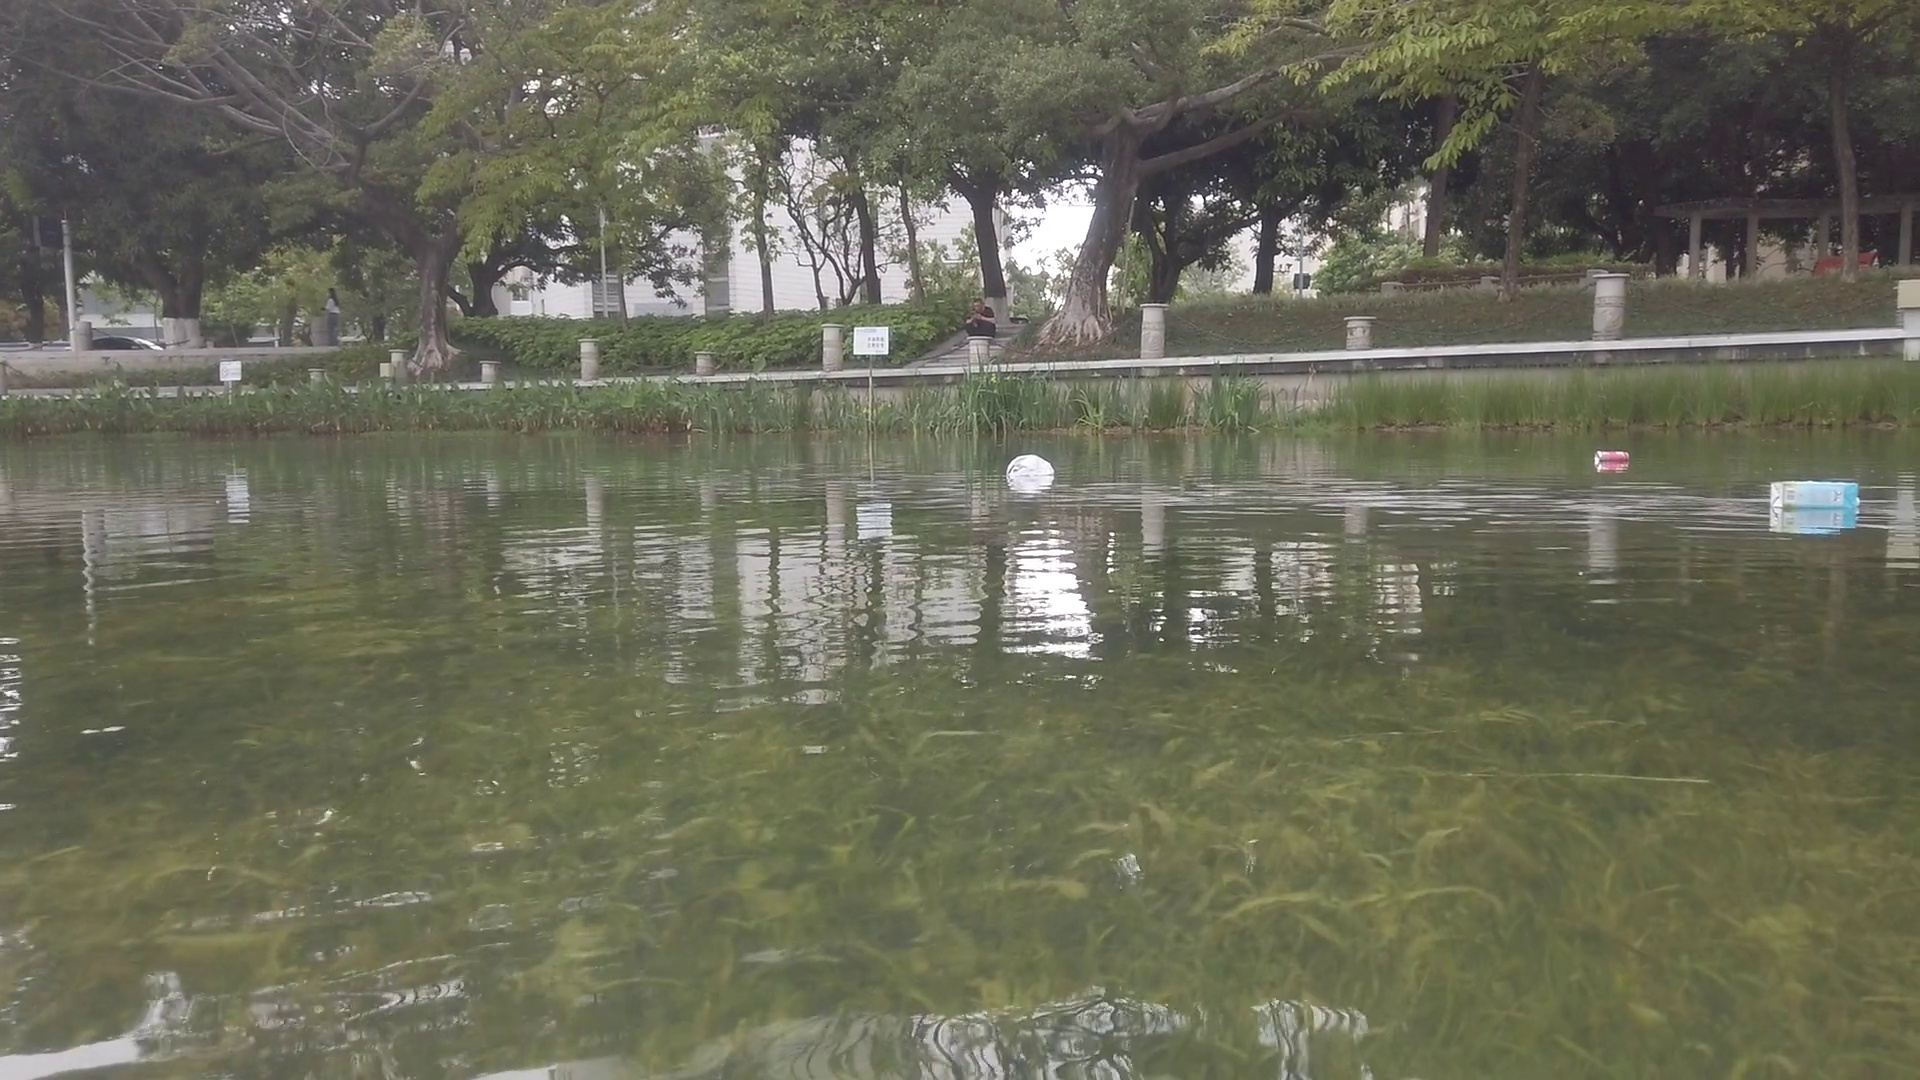bottle: (1593, 447, 1629, 463)
carton: (1771, 480, 1862, 506)
plastic: (1007, 455, 1054, 476)
